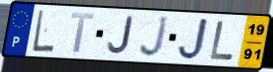J: (176, 17, 211, 61), (138, 15, 171, 59), (106, 16, 134, 56)
L: (208, 19, 237, 61), (31, 9, 56, 54)
T: (69, 11, 96, 55)
